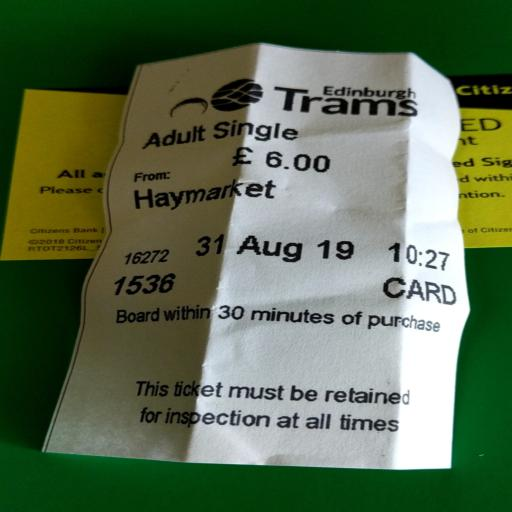paper: (11, 30, 511, 512)
